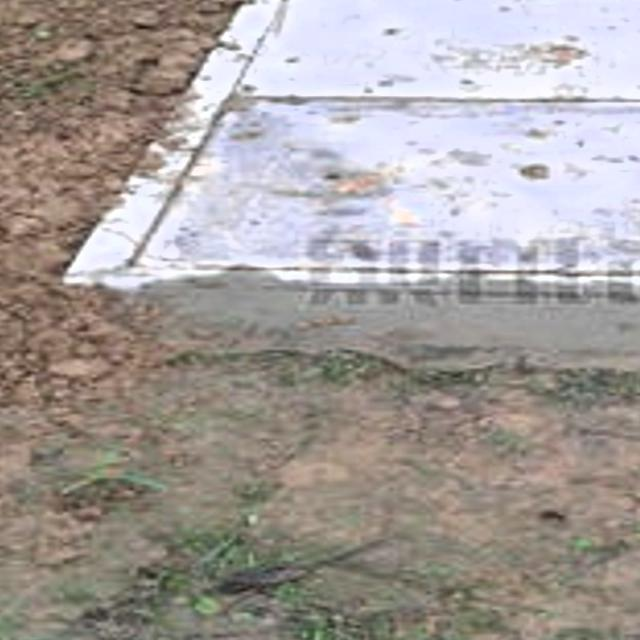good: (130, 0, 640, 279)
